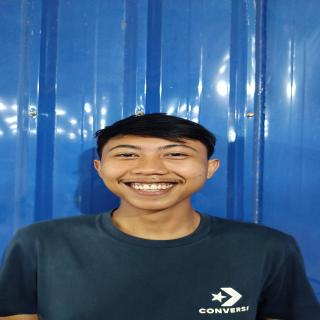Senang: (98, 122, 216, 214)
